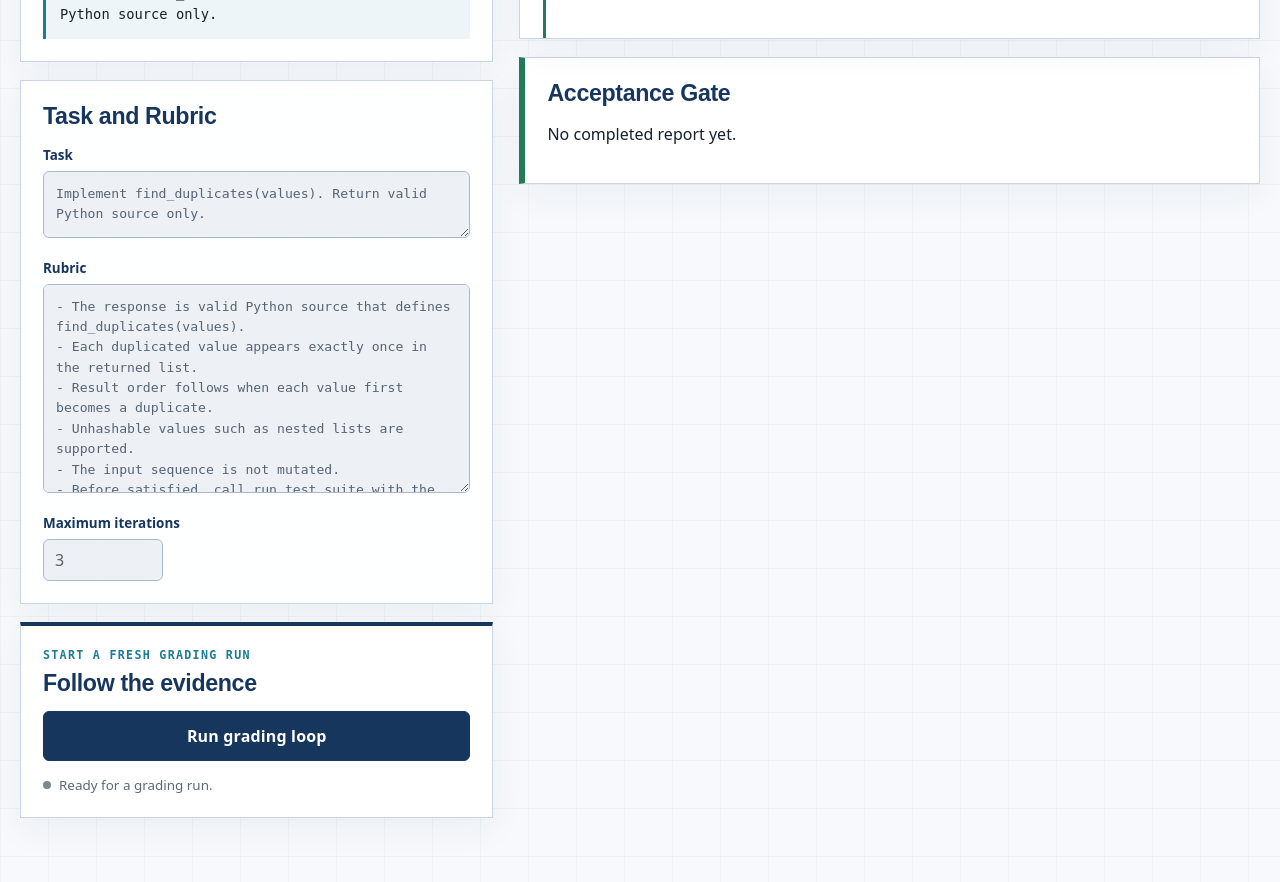
Test: Rubric Lab workbench › adds custom events to the current run timeline as they arrive
The width and height of the screenshot is (1280, 882).
(page scrolled)
Click the button "Run grading loop" at {"x": 257, "y": 736}, box [43,711,470,761]
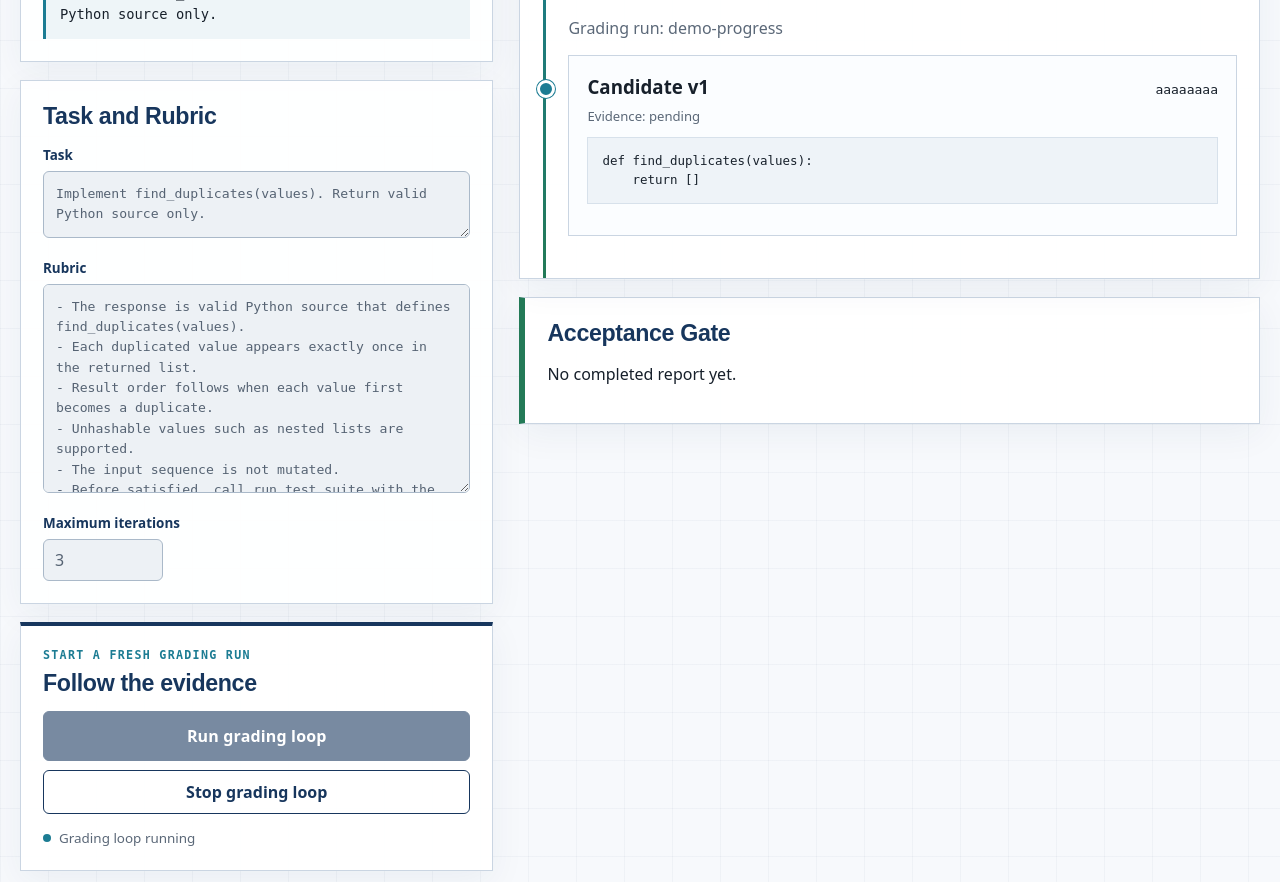
Result: the text "Grading run: demo-progress" is shown at [568,17,783,39]
Result: the heading "Candidate v1" is shown at [588,74,709,99]
Result: the text "Evidence: pending" is shown at [588,107,700,125]
